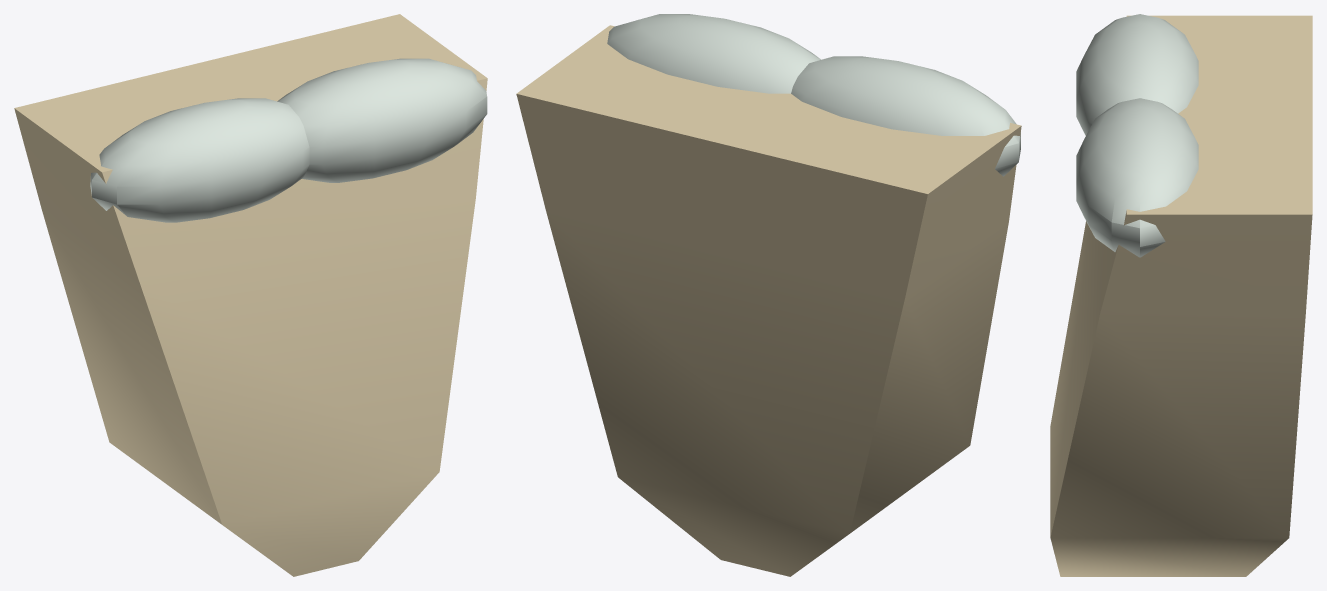
Rendered from Beard.glb.
3 renders of one model, left to right at view 1: azimuth 30°, elevation 25°; view 2: azimuth 150°, elevation 25°; view 3: azimuth 270°, elevation 25°, orthographic. The views are drawn at different scales.
Parts seen in each view (by area): view 1: long_beard, moustache_left, moustache_right; view 2: long_beard, moustache_left, moustache_right; view 3: long_beard, moustache_right, moustache_left.
Part boxes in pixels (x1,y1,x2,y2): long_beard: (14, 14, 487, 576); moustache_left: (90, 98, 309, 222); moustache_right: (277, 58, 487, 182); long_beard: (516, 25, 1021, 576); moustache_left: (791, 56, 1020, 176); moustache_right: (607, 14, 820, 93); long_beard: (1050, 15, 1312, 576); moustache_right: (1076, 98, 1198, 257); moustache_left: (1076, 14, 1198, 135).
Size of the model in its own units: 1.45 by 1.59 by 0.79.
